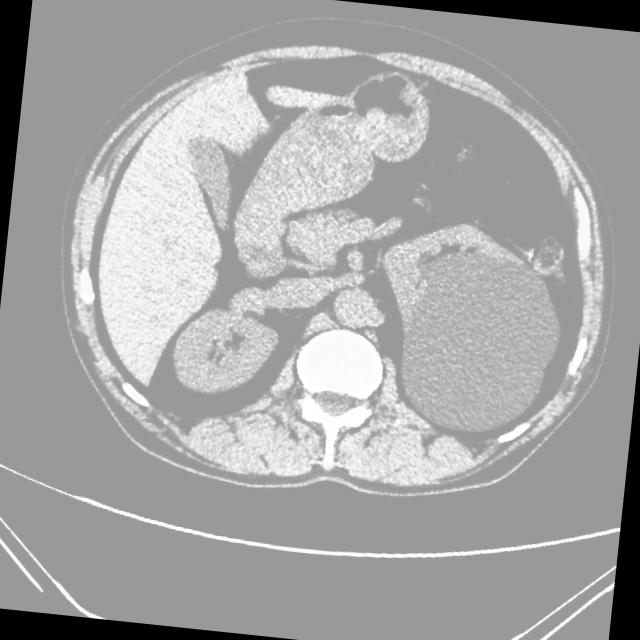cysts: (44, 11, 631, 519)
